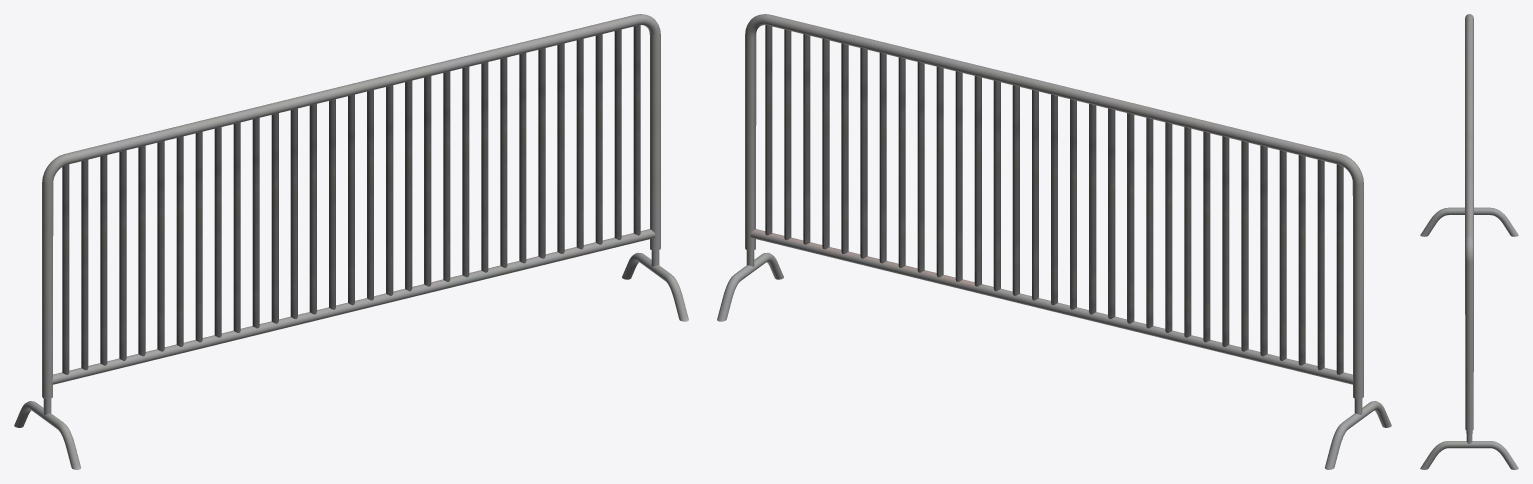
File: SM_RoadBlock1_74d879.glb
The picture shows the model from 3 angles, left to right: view 1: azimuth 30°, elevation 25°; view 2: azimuth 150°, elevation 25°; view 3: azimuth 270°, elevation 25°; orthographic projection. The views are drawn at different scales.
Bounding box in the file's own units: 2.44 × 1.09 × 0.4306.
Materials: 1 (1 with a texture image).
